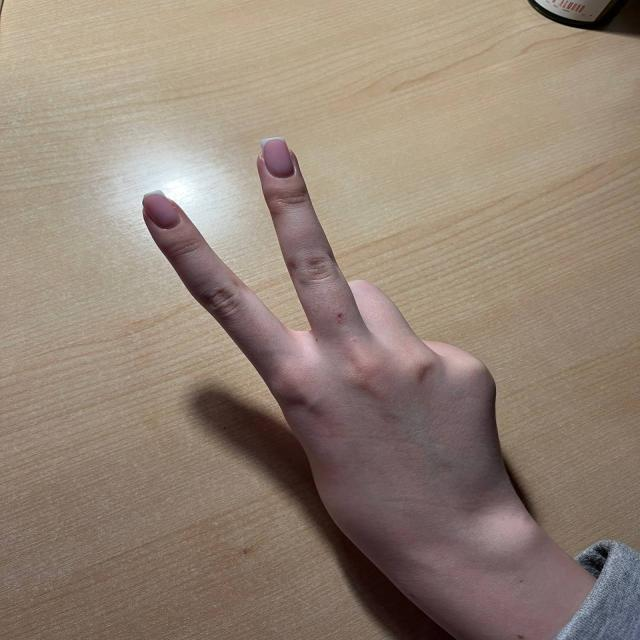l: (127, 135, 491, 523)
